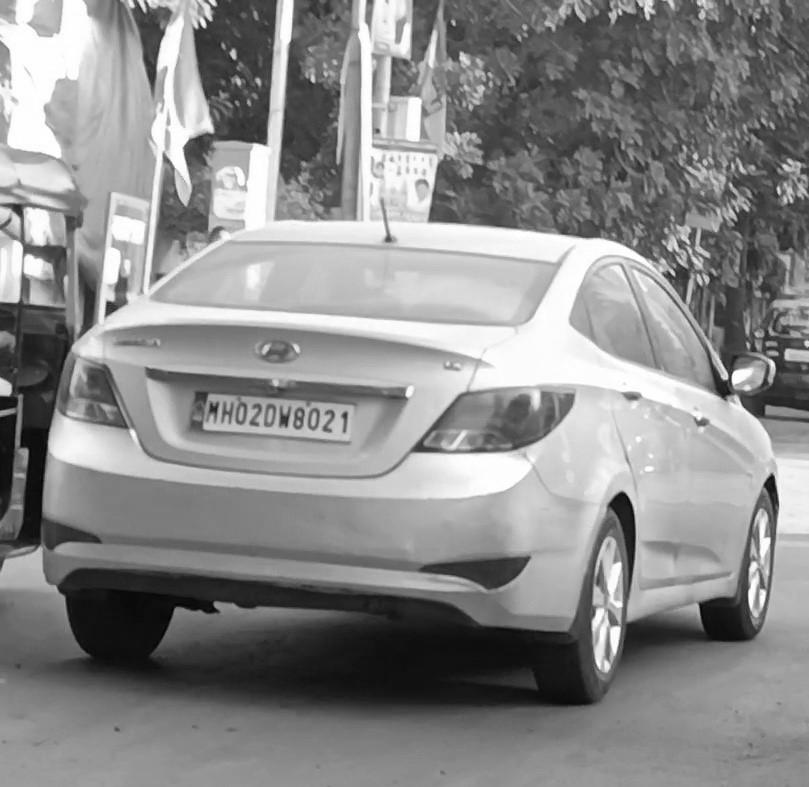number_plate: (185, 393, 356, 440)
